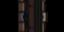Hide: (16, 0, 47, 32)
